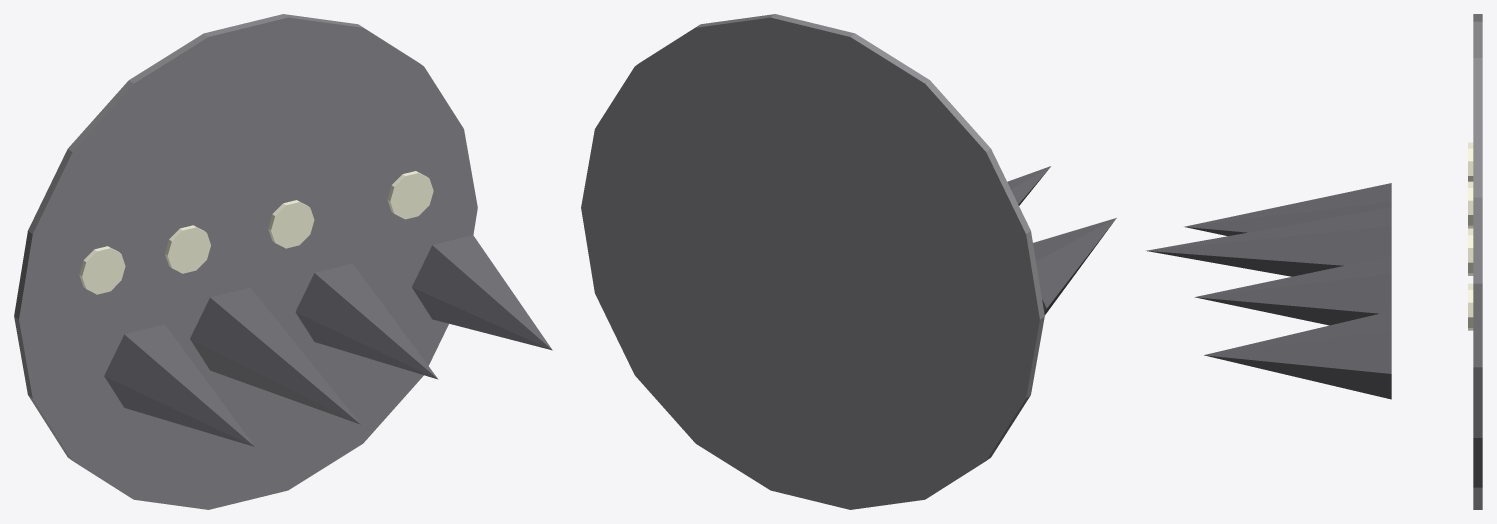
File: 04_event_hazard_cluster.glb
3 views of the same model, side by side, from view 1: azimuth 30°, elevation 25°; view 2: azimuth 150°, elevation 25°; view 3: azimuth 270°, elevation 25° (orthographic). The views are drawn at different scales.
Visible parts, largest first — view 1: scatter_base, basalt_shard_1, basalt_shard_0, basalt_shard_3, basalt_shard_2, lava_glow_3, lava_glow_0, lava_glow_2, lava_glow_1; view 2: scatter_base, basalt_shard_0, basalt_shard_1; view 3: basalt_shard_1, basalt_shard_3, basalt_shard_2, scatter_base, basalt_shard_0.
Part boxes in pixels (x1,y1,x2,y2): scatter_base: (14,14,477,509); basalt_shard_1: (190,287,360,424); basalt_shard_0: (104,324,254,446); basalt_shard_3: (412,235,552,350); basalt_shard_2: (295,263,438,379); lava_glow_3: (387,171,433,219); lava_glow_0: (79,246,125,294); lava_glow_2: (268,200,314,248); lava_glow_1: (165,225,210,273); scatter_base: (581,14,1044,509); basalt_shard_0: (1033,218,1116,315); basalt_shard_1: (1007,166,1050,205); basalt_shard_1: (1146,207,1391,276); basalt_shard_3: (1204,311,1391,399); basalt_shard_2: (1194,256,1391,325); scatter_base: (1473,14,1482,509); basalt_shard_0: (1184,183,1391,235).
Bounding box in the file's own units: 1.9 × 1.87 × 1.29.
